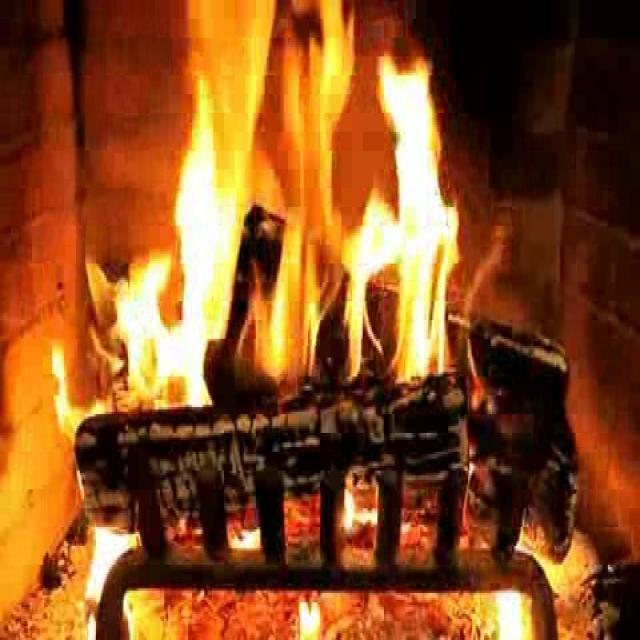Fire: (136, 2, 456, 417)
